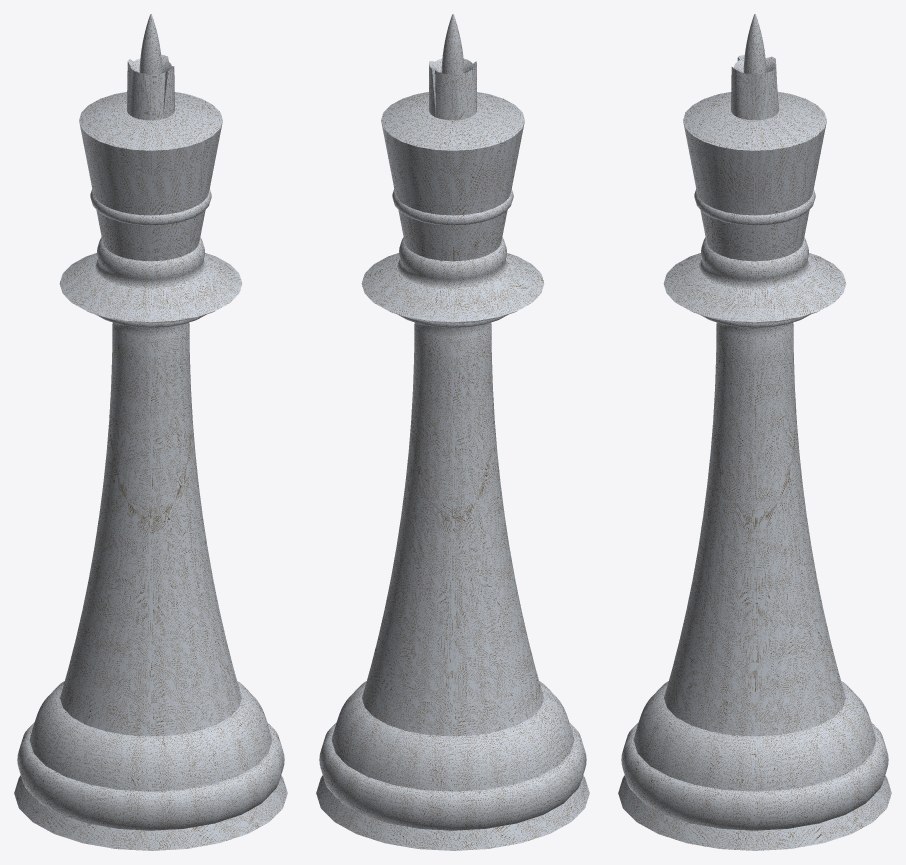
Rendered from king.fbx.
3 views of the same model, side by side, from view 1: azimuth 30°, elevation 25°; view 2: azimuth 150°, elevation 25°; view 3: azimuth 270°, elevation 25° (orthographic).
Visible parts, largest first — view 1: Group1; view 2: Group1; view 3: Group1.
Part boxes in pixels (bbox=[...]): Group1: bbox=[14, 14, 287, 850]; Group1: bbox=[316, 14, 589, 850]; Group1: bbox=[618, 14, 891, 850].
Bounding box in the file's own units: 526 × 1651 × 526.
